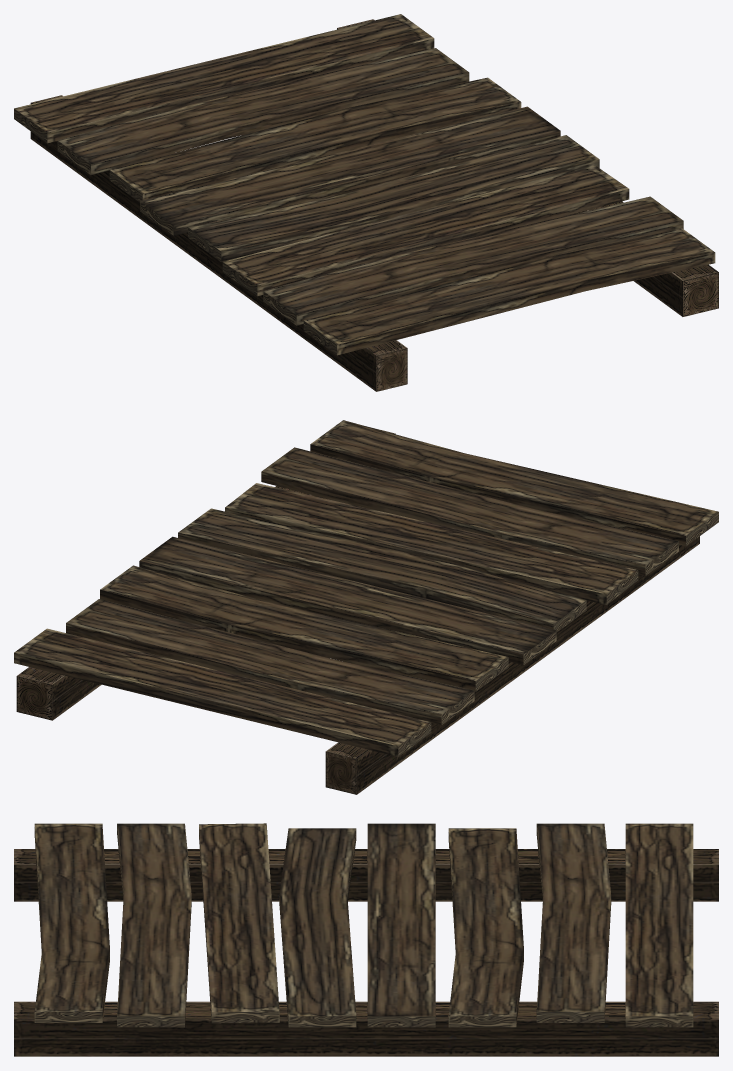
File: Deck_05.fbx
The picture shows the model from 3 angles, top to bottom: view 1: azimuth 30°, elevation 25°; view 2: azimuth 150°, elevation 25°; view 3: azimuth 270°, elevation 25°; orthographic projection. The views are drawn at different scales.
Visible parts, largest first — view 1: Deck_05; view 2: Deck_05; view 3: Deck_05.
Boxes of the visible parts, x1=… form: Deck_05: x1=14, y1=14, x2=718, y2=391; Deck_05: x1=14, y1=420, x2=718, y2=794; Deck_05: x1=14, y1=823, x2=718, y2=1056.
Size of the model in its own units: 3.89 by 0.4479 by 6.
